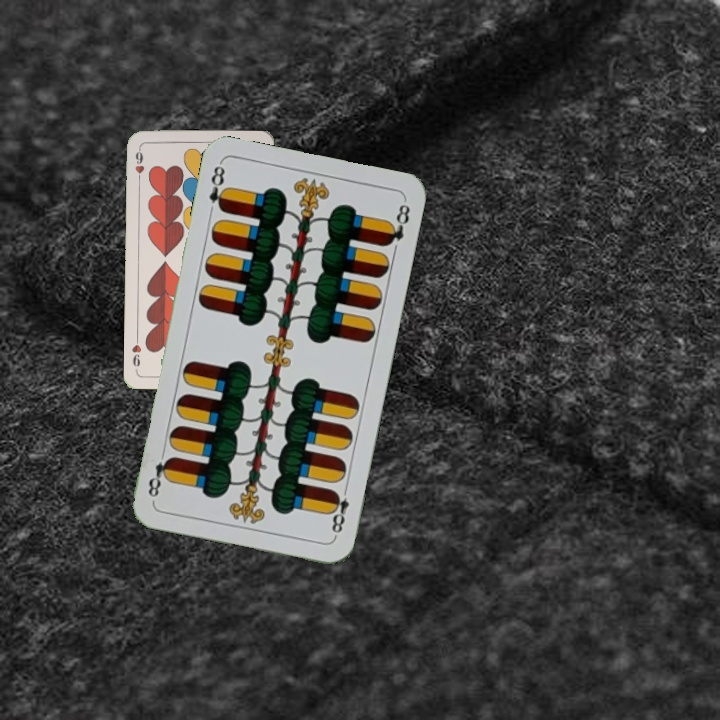E8: (326, 481, 352, 540), (205, 160, 230, 215)
H9: (131, 144, 147, 184)
